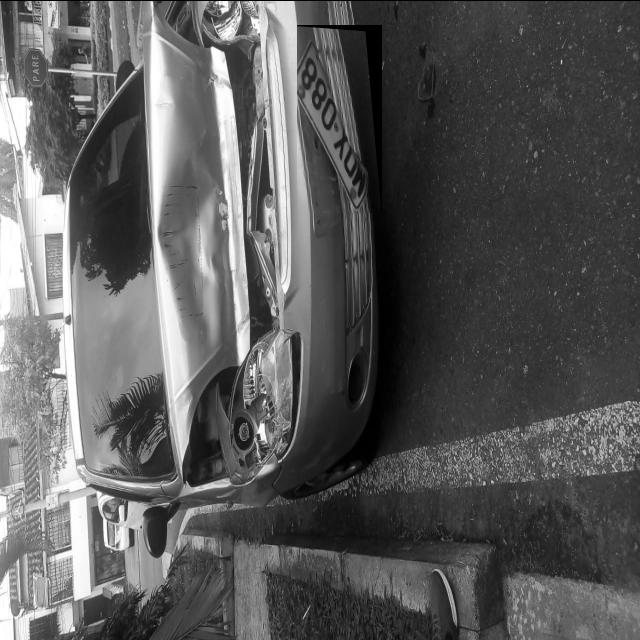plate: (297, 26, 379, 212)
